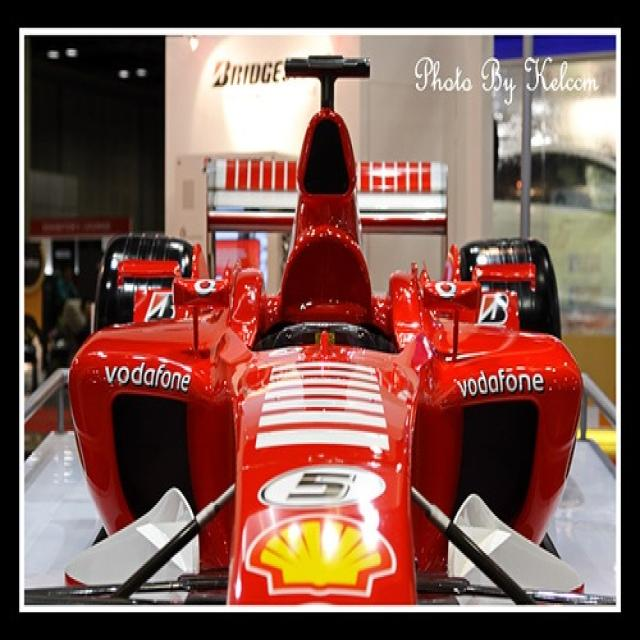car: (24, 52, 616, 603)
